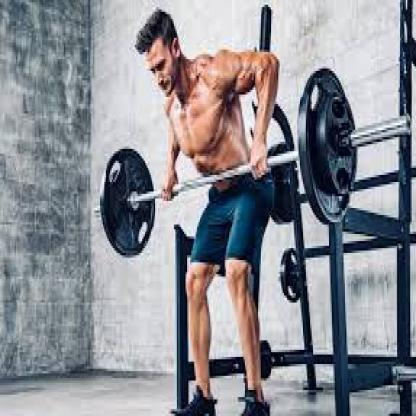barbell: (96, 69, 412, 260)
